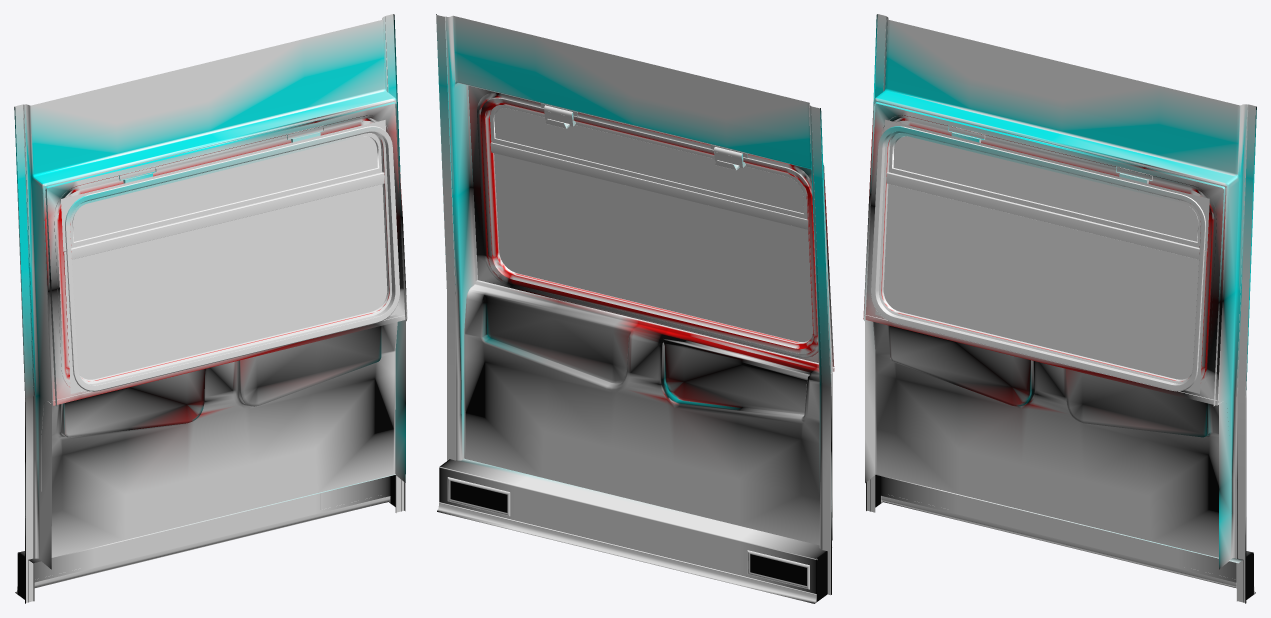
The model's file is SM_int_wall_window_200_01.fbx.
3 views of the same model, side by side, from view 1: azimuth 30°, elevation 25°; view 2: azimuth 150°, elevation 25°; view 3: azimuth 330°, elevation 25° (orthographic).
Visible parts, largest first — view 1: SM_int_wall_window_200_01_LOD0; view 2: SM_int_wall_window_200_01_LOD0; view 3: SM_int_wall_window_200_01_LOD0.
Part boxes in pixels (box(x1,y1,x2,y2)): SM_int_wall_window_200_01_LOD0: box(14, 14, 407, 603); SM_int_wall_window_200_01_LOD0: box(436, 14, 834, 603); SM_int_wall_window_200_01_LOD0: box(863, 14, 1256, 603).
Bounding box in the file's own units: 204 × 251 × 34.09.
